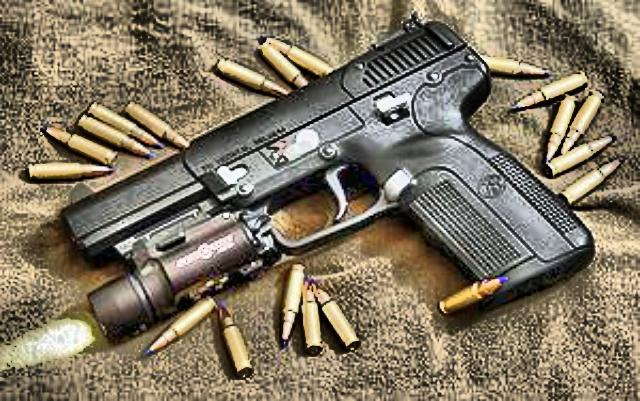pistol: (43, 9, 587, 305)
